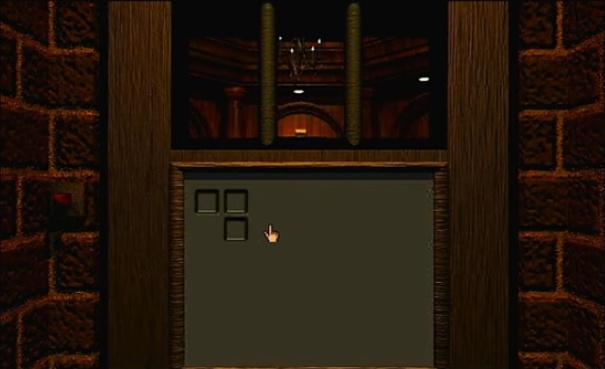Pointer: (261, 221, 282, 244)
